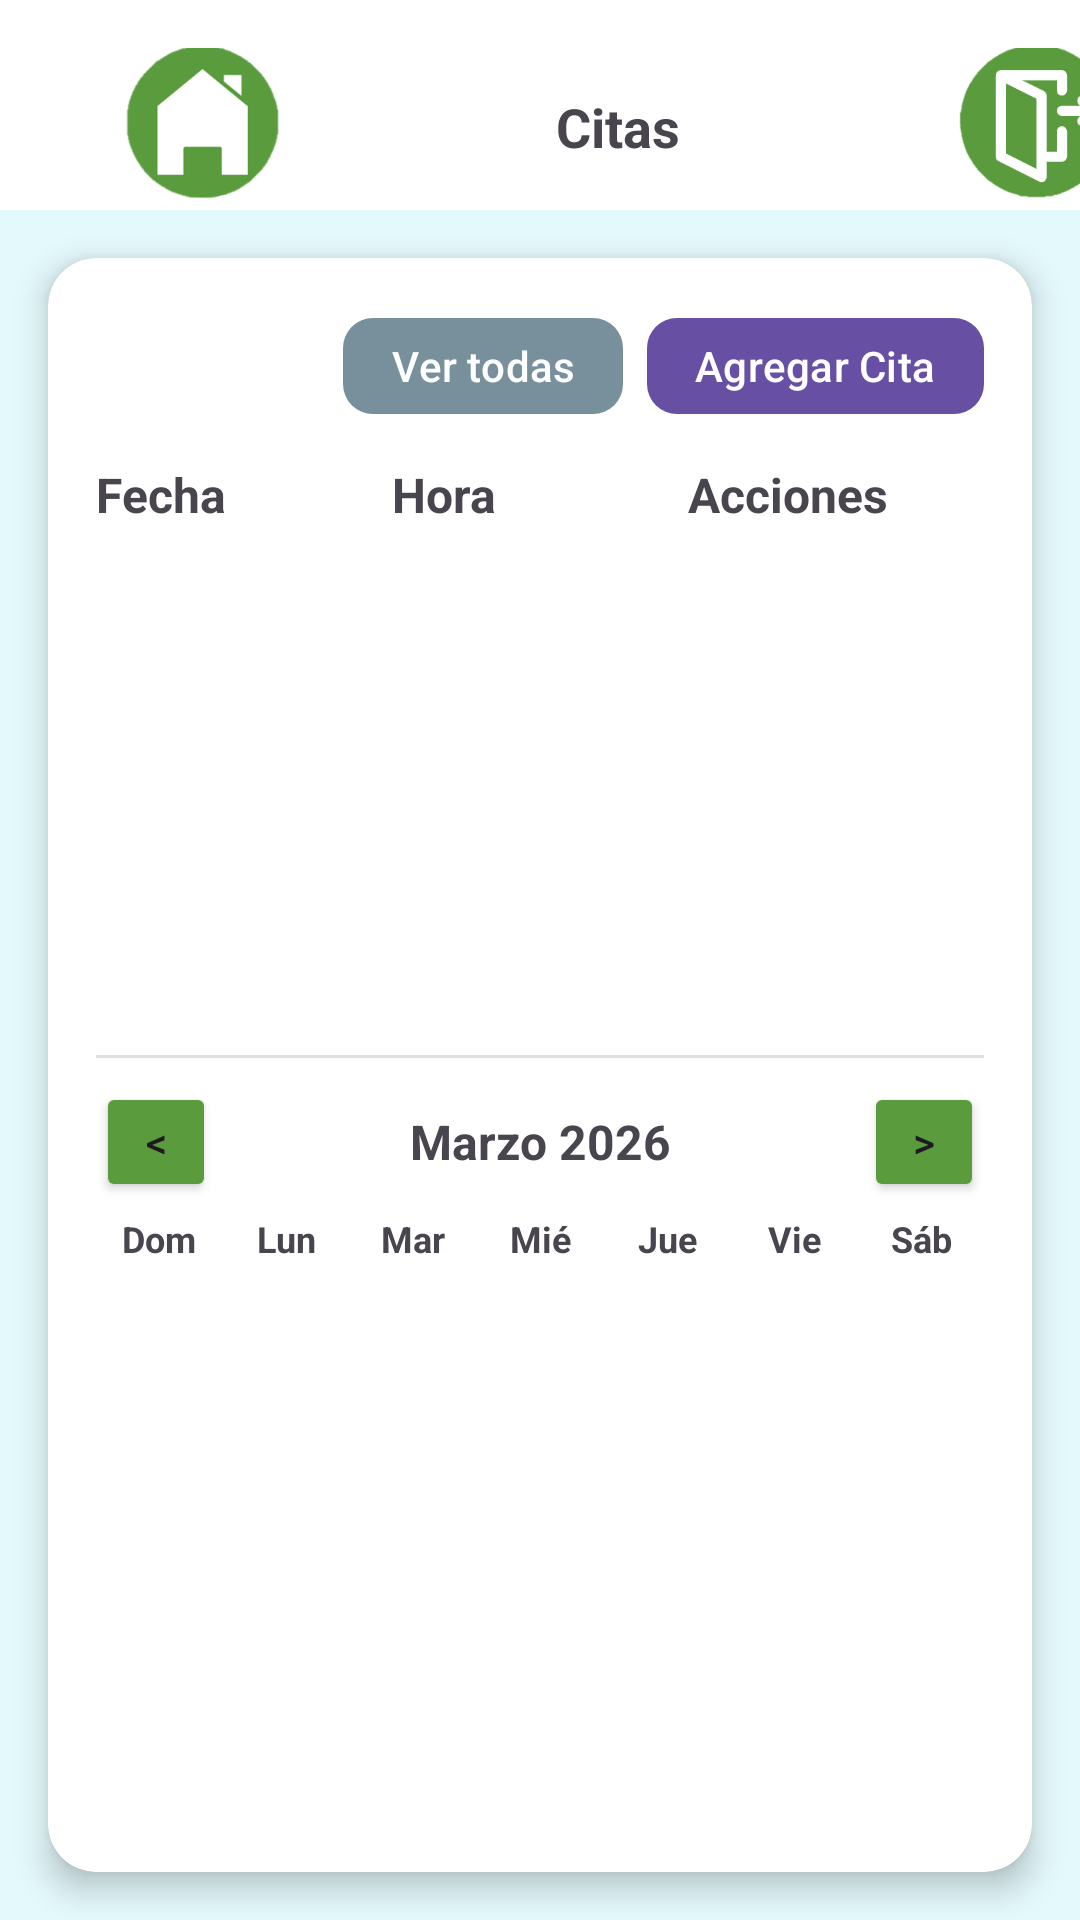

Icon click points for this 1080 × 1920 phone screenshot, format (x=x, y=y):
casa sf: (x=203, y=123)
